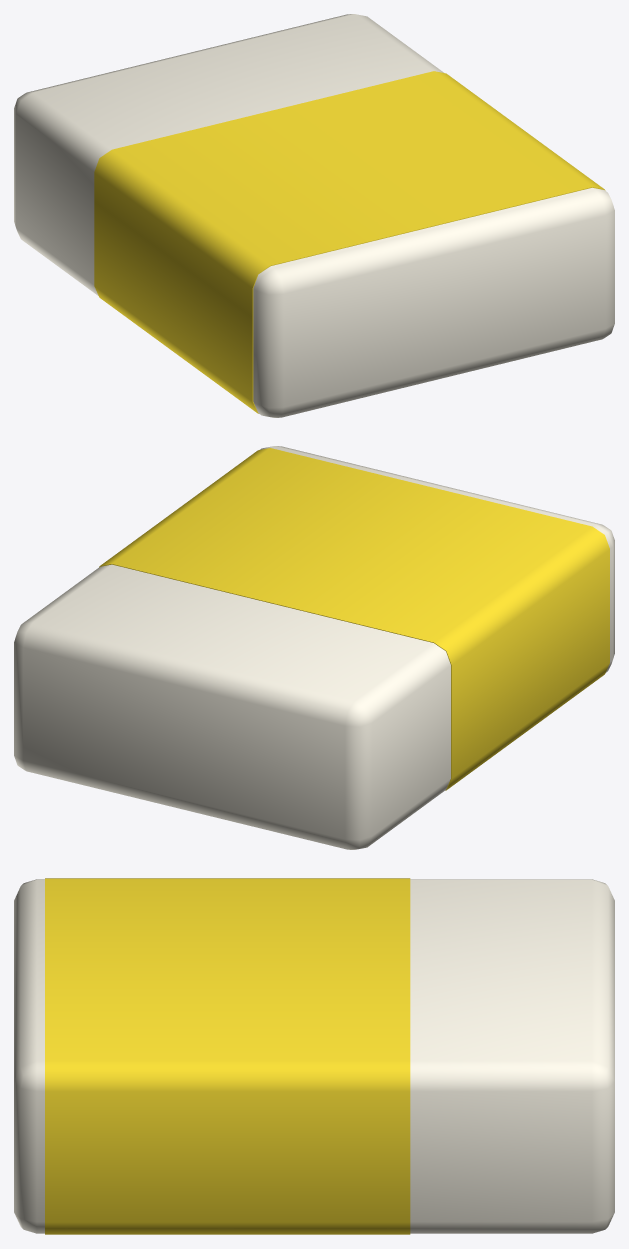
Rendered from eraser_square.fbx.
The picture shows the model from 3 angles, top to bottom: view 1: azimuth 30°, elevation 25°; view 2: azimuth 150°, elevation 25°; view 3: azimuth 270°, elevation 25°; orthographic projection. The views are drawn at different scales.
Visible parts, largest first — view 1: eraser_square; view 2: eraser_square; view 3: eraser_square.
Boxes of the visible parts, <box> form: eraser_square: <box>14,14,614,417</box>; eraser_square: <box>14,446,614,849</box>; eraser_square: <box>14,878,614,1234</box>.
Size of the model in its own units: 0.2999 by 0.1206 by 0.3788.
